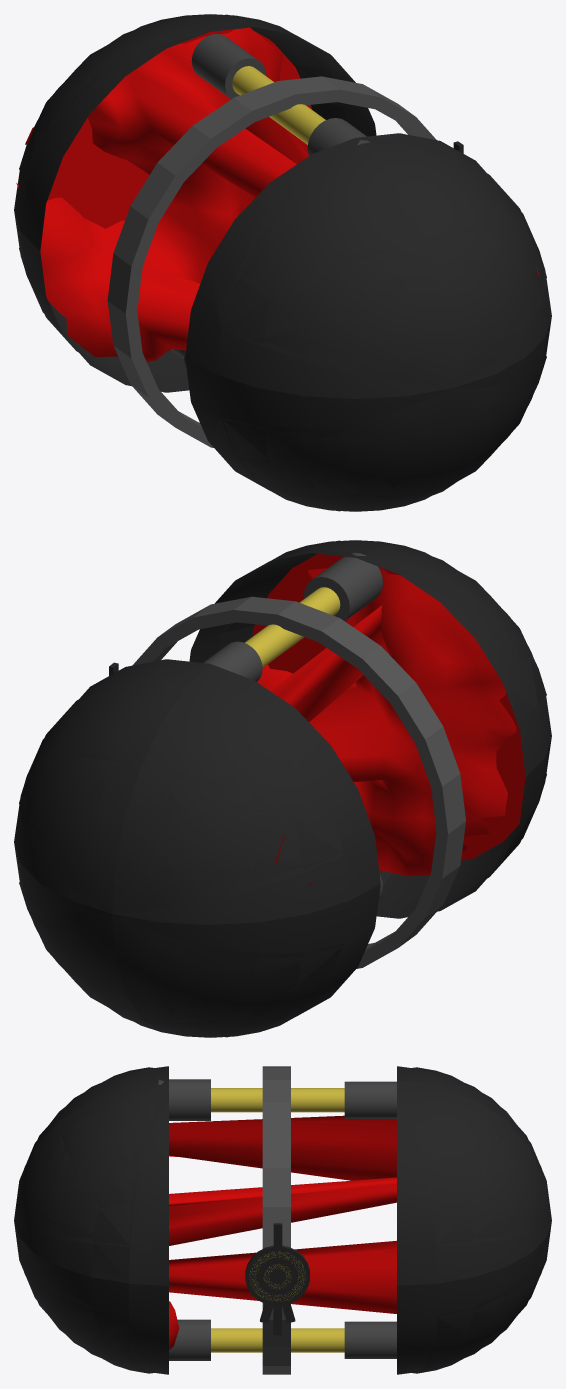
3 views of the same model, one above another, from view 1: azimuth 30°, elevation 25°; view 2: azimuth 150°, elevation 25°; view 3: azimuth 270°, elevation 25° (orthographic). The views are drawn at different scales.
Visible parts, largest first — view 1: group_0 (×10); view 2: group_0 (×9); view 3: group_0 (×11), group_1 (×4).
Boxes of the visible parts, x1=… form: group_0 (×10): x1=14, y1=14, x2=551, y2=511; group_0 (×9): x1=14, y1=540, x2=551, y2=1037; group_0 (×11): x1=14, y1=1066, x2=551, y2=1374; group_1 (×4): x1=245, y1=1223, x2=309, y2=1335.
Bounding box in the file's own units: 30.43 × 51.97 × 29.92.
